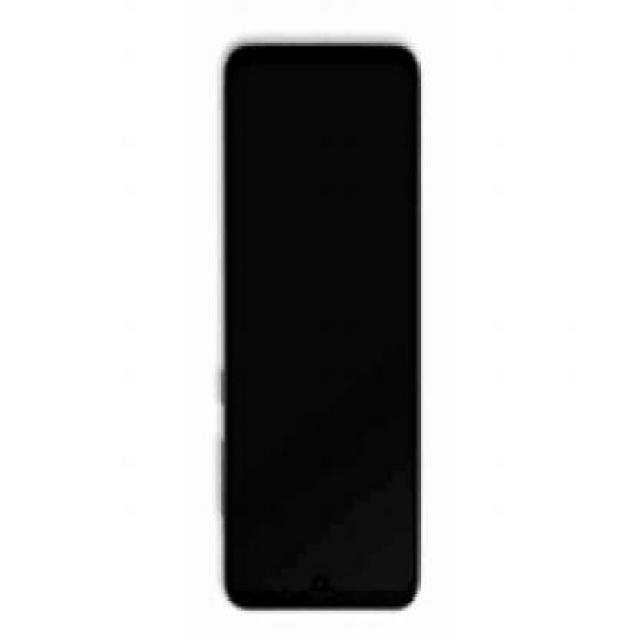phone: (223, 43, 423, 611)
